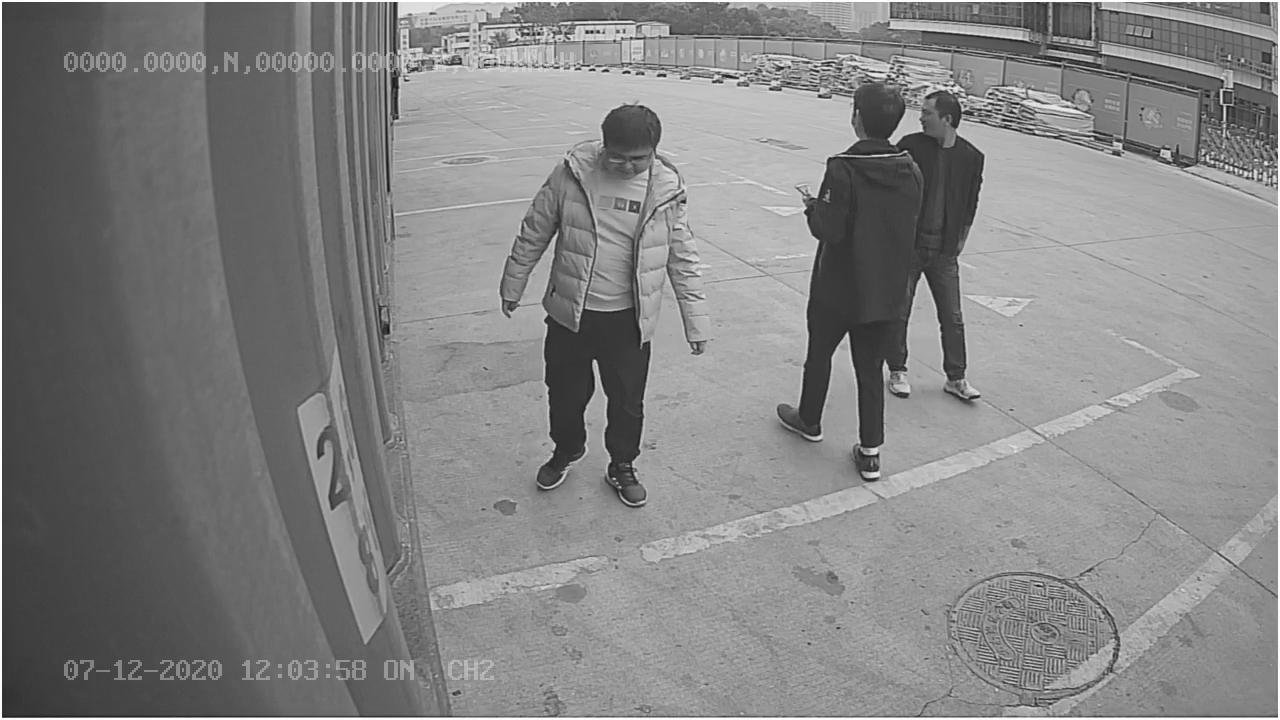person: (498, 91, 712, 513)
